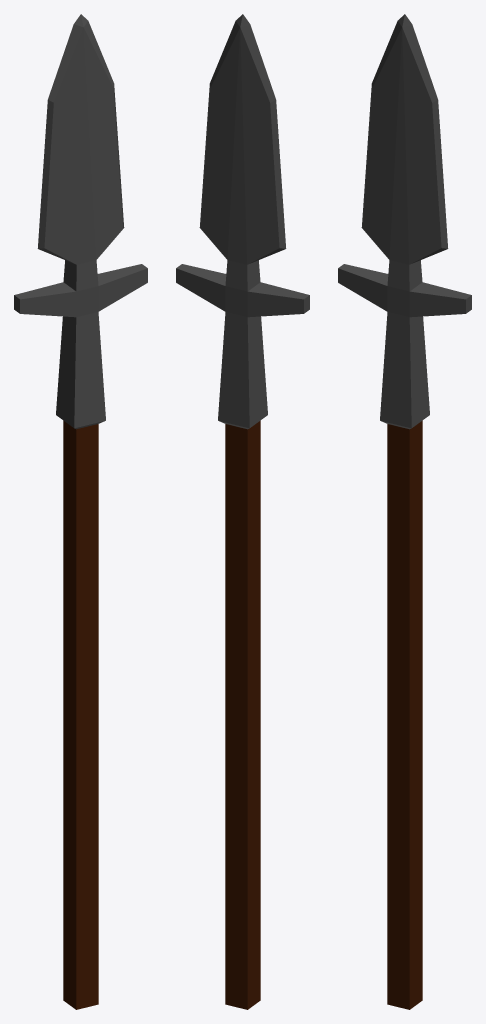
The model's file is Spear.fbx.
3 views of the same model, side by side, from view 1: azimuth 30°, elevation 25°; view 2: azimuth 150°, elevation 25°; view 3: azimuth 330°, elevation 25° (orthographic).
Visible parts, largest first — view 1: Spear; view 2: Spear; view 3: Spear.
Part boxes in pixels (x1,y1,x2,y2): Spear: (14, 14, 147, 1009); Spear: (176, 14, 309, 1009); Spear: (338, 14, 471, 1009).
Size of the model in its own units: 0.2649 by 1.96 by 0.066.
